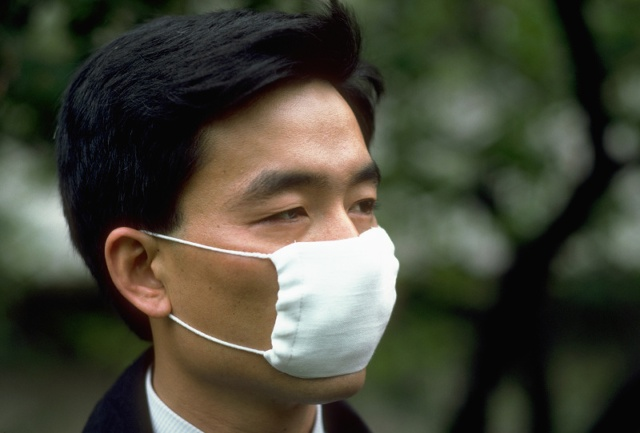mask: (266, 227, 402, 379)
